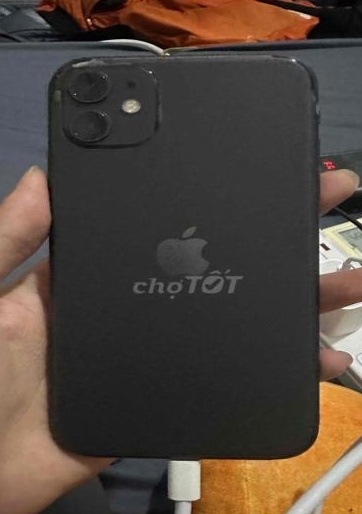scratch: (63, 49, 306, 67), (76, 71, 105, 138), (301, 66, 327, 122), (149, 76, 167, 135), (48, 84, 65, 101)
